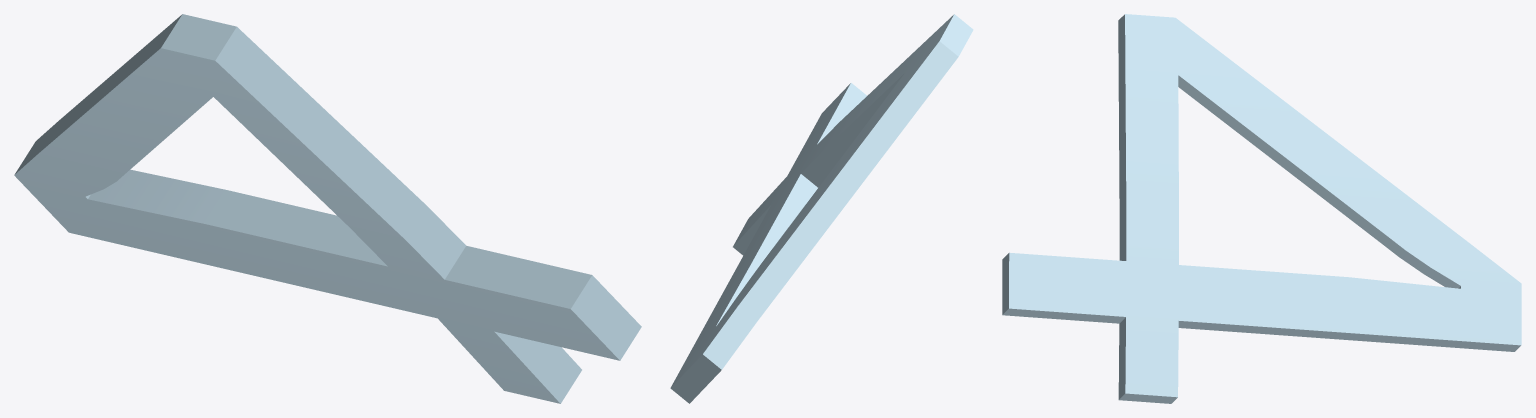
File: Number_4.gltf
3 views of the same model, side by side, from view 1: azimuth 30°, elevation 25°; view 2: azimuth 150°, elevation 25°; view 3: azimuth 270°, elevation 25° (orthographic). The views are drawn at different scales.
Parts seen in each view (by area): view 1: Sub_7_Cell_2_1_Number_4; view 2: Sub_7_Cell_2_1_Number_4; view 3: Sub_7_Cell_2_1_Number_4.
Part boxes in pixels (x1,y1,x2,y2): Sub_7_Cell_2_1_Number_4: (14,14,641,403); Sub_7_Cell_2_1_Number_4: (670,14,973,403); Sub_7_Cell_2_1_Number_4: (1002,14,1521,403).
Bounding box in the file's own units: 0.0135 × 0.0155 × 0.0247.
